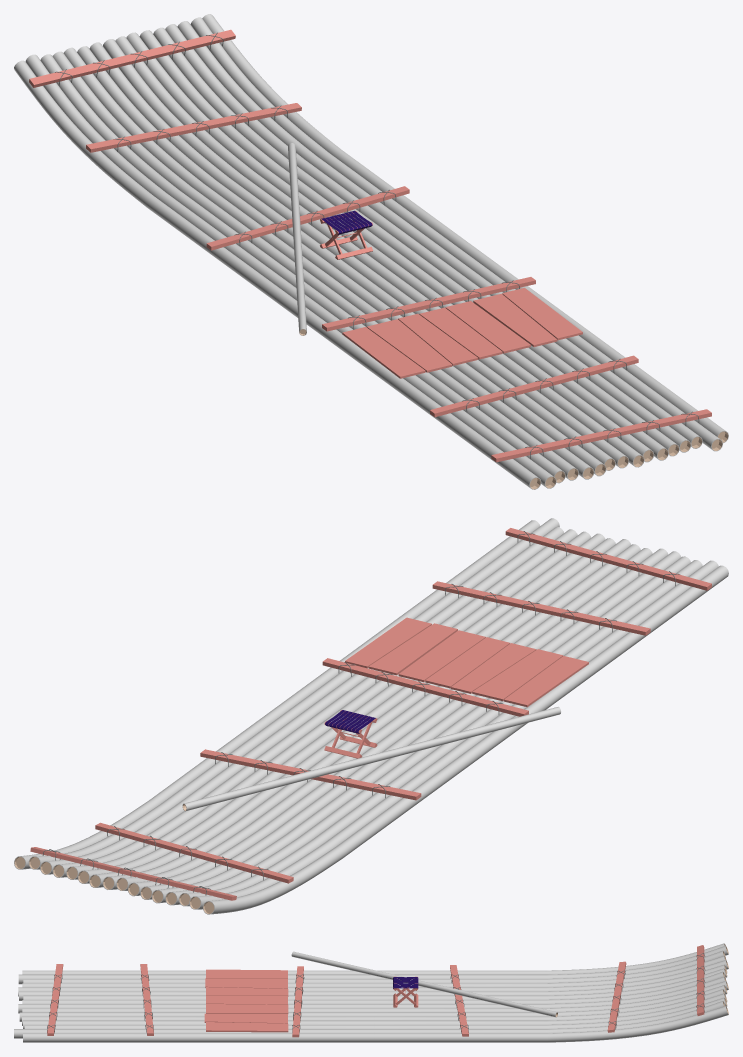
3 renders of one model, top to bottom at view 1: azimuth 30°, elevation 25°; view 2: azimuth 150°, elevation 25°; view 3: azimuth 270°, elevation 25°, orthographic. The views are drawn at different scales.
Visible parts, largest first — view 1: qingmo_f2269cb7-091c-484e-bbda-f2f67983f112; view 2: qingmo_f2269cb7-091c-484e-bbda-f2f67983f112; view 3: qingmo_f2269cb7-091c-484e-bbda-f2f67983f112.
Part boxes in pixels (<box>): qingmo_f2269cb7-091c-484e-bbda-f2f67983f112: <box>14,14,728,489</box>; qingmo_f2269cb7-091c-484e-bbda-f2f67983f112: <box>14,518,728,914</box>; qingmo_f2269cb7-091c-484e-bbda-f2f67983f112: <box>14,943,728,1042</box>.
Size of the model in its own units: 0.8232 by 0.1861 by 3.17.
